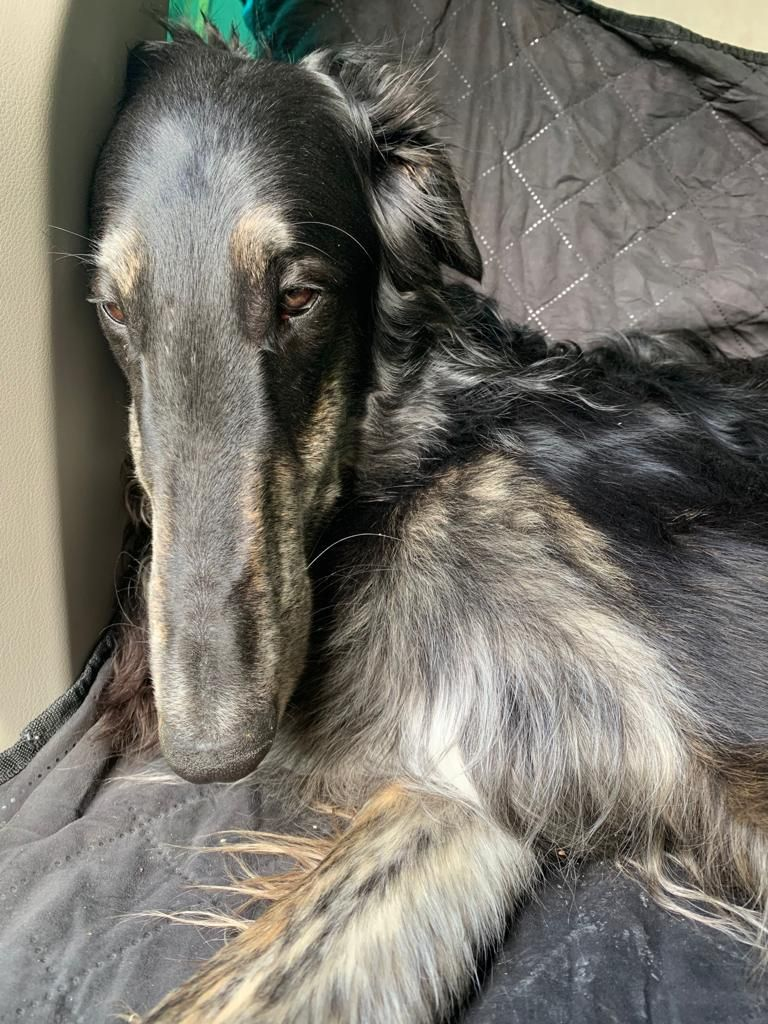borzoi: (60, 23, 768, 1024)
